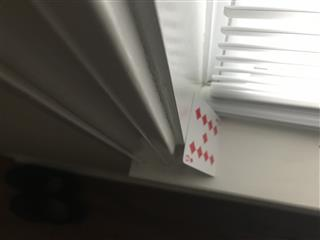NineOfDiamonds: (181, 91, 223, 177)
